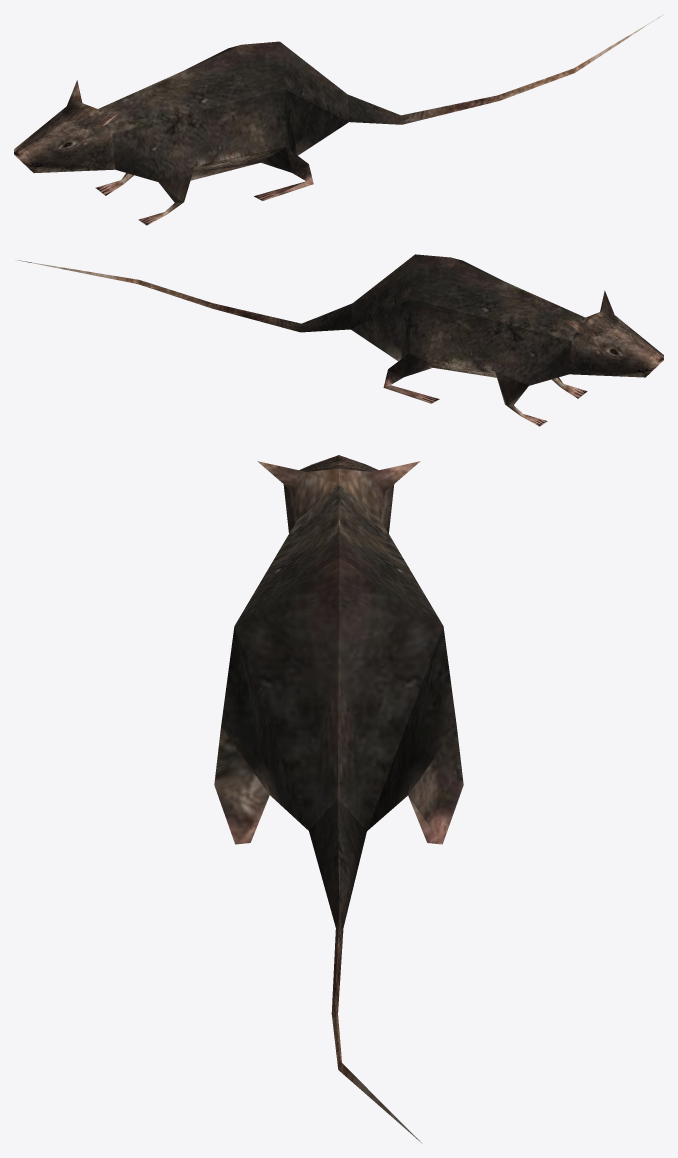
Rendered from rat.glb.
3 views of the same model, one above another, from view 1: azimuth 30°, elevation 25°; view 2: azimuth 150°, elevation 25°; view 3: azimuth 270°, elevation 25° (orthographic). The views are drawn at different scales.
Visible parts, largest first — view 1: rat; view 2: rat; view 3: rat.
Part boxes in pixels (left/top/right/bottom): rat: left=14, top=15, right=662, bottom=225; rat: left=18, top=254, right=663, bottom=426; rat: left=214, top=455, right=463, bottom=1142.
Bounding box in the file's own units: 0.14 × 0.0267 × 0.024.
Materials: 1 (1 with a texture image).
